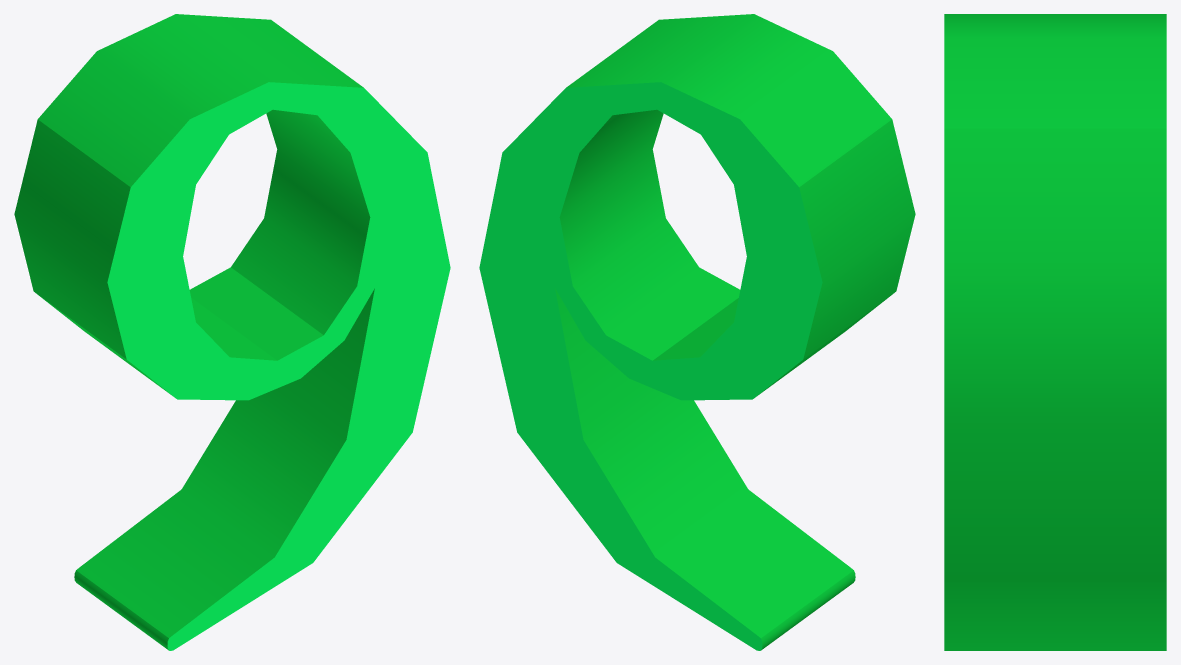
The picture shows the model from 3 angles, left to right: view 1: azimuth 30°, elevation 25°; view 2: azimuth 150°, elevation 25°; view 3: azimuth 270°, elevation 25°; orthographic projection. The views are drawn at different scales.
Visible parts, largest first — view 1: 9_Soul_Green; view 2: 9_Soul_Green; view 3: 9_Soul_Green.
Boxes of the visible parts, x1,y1,x2,y2 form: 9_Soul_Green: [14, 14, 450, 650]; 9_Soul_Green: [479, 14, 915, 650]; 9_Soul_Green: [944, 14, 1166, 650].
Size of what is drawn, in the model's own units: 0.0958 by 0.1455 by 0.045.
2 materials, 2 textured.
